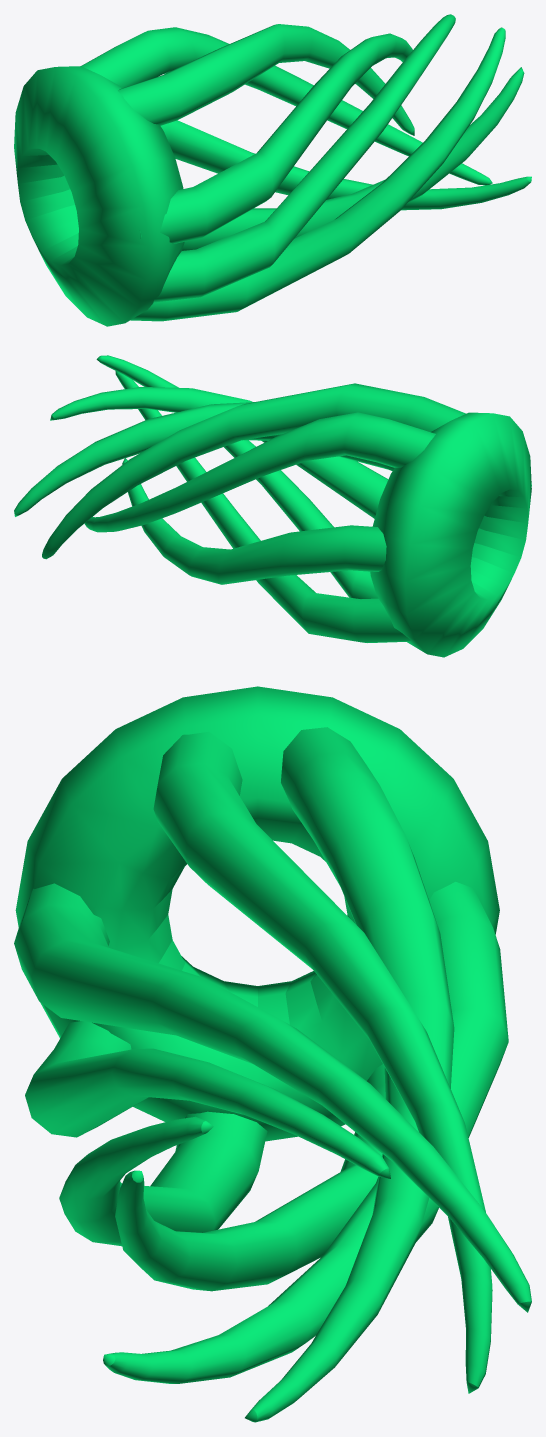
The model's file is city_fbx_temple.fbx.
3 views of the same model, one above another, from view 1: azimuth 30°, elevation 25°; view 2: azimuth 150°, elevation 25°; view 3: azimuth 270°, elevation 25° (orthographic). The views are drawn at different scales.
Parts seen in each view (by area): view 1: polySurface1; view 2: polySurface1; view 3: polySurface1.
Part boxes in pixels (x1,y1,x2,y2): polySurface1: (14, 14, 531, 326); polySurface1: (14, 355, 531, 657); polySurface1: (14, 686, 531, 1422).
Bounding box in the file's own units: 31.29 × 16.98 × 17.58.
